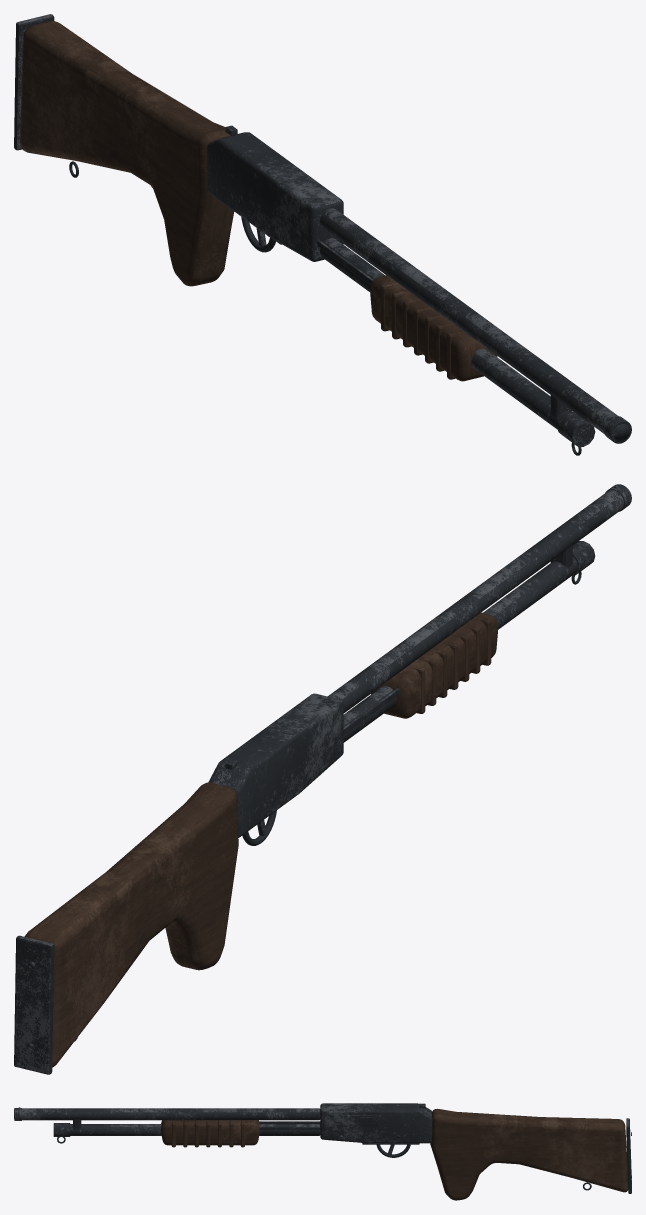
File: wpn_boar.gltf
The picture shows the model from 3 angles, top to bottom: view 1: azimuth 30°, elevation 25°; view 2: azimuth 150°, elevation 25°; view 3: azimuth 270°, elevation 25°; orthographic projection. The views are drawn at different scales.
Visible parts, largest first — view 1: wpn_boar_gun_wood_01, wpn_boar_gun_steel_01; view 2: wpn_boar_gun_wood_01, wpn_boar_gun_steel_01; view 3: wpn_boar_gun_wood_01, wpn_boar_gun_steel_01.
Part boxes in pixels (x1=…): wpn_boar_gun_wood_01: x1=20, y1=21, x2=497, y2=381; wpn_boar_gun_steel_01: x1=14, y1=14, x2=631, y2=455; wpn_boar_gun_wood_01: x1=24, y1=612, x2=497, y2=1067; wpn_boar_gun_steel_01: x1=14, y1=484, x2=631, y2=1074; wpn_boar_gun_wood_01: x1=160, y1=1108, x2=628, y2=1200; wpn_boar_gun_steel_01: x1=14, y1=1103, x2=631, y2=1193.
Bounding box in the file's own units: 0.049 × 0.1976 × 1.18.
2 materials, 2 textured.
